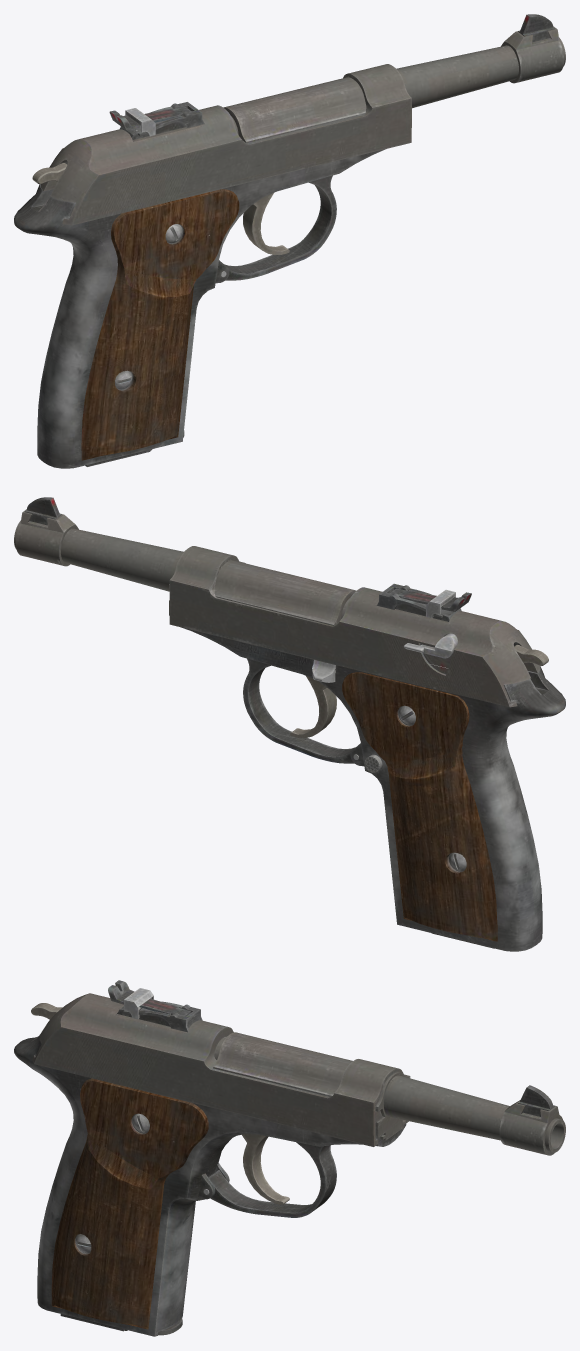
The model's file is pistol.glb.
3 renders of one model, top to bottom at view 1: azimuth 30°, elevation 25°; view 2: azimuth 150°, elevation 25°; view 3: azimuth 330°, elevation 25°, orthographic.
Parts seen in each view (by area): view 1: service_pistol_pistol_a, service_pistol_slide_a, service_pistol_trigger_a; view 2: service_pistol_pistol_a, service_pistol_slide_a, service_pistol_trigger_a; view 3: service_pistol_pistol_a, service_pistol_slide_a, service_pistol_trigger_a.
Part boxes in pixels (x1,y1,x2,y2): service_pistol_pistol_a: [14, 14, 565, 468]; service_pistol_slide_a: [41, 64, 411, 225]; service_pistol_trigger_a: [243, 193, 289, 254]; service_pistol_pistol_a: [14, 497, 565, 951]; service_pistol_slide_a: [169, 546, 544, 707]; service_pistol_trigger_a: [290, 676, 336, 737]; service_pistol_pistol_a: [14, 1032, 565, 1336]; service_pistol_slide_a: [32, 980, 410, 1146]; service_pistol_trigger_a: [242, 1134, 289, 1204].
Size of the model in its own units: 0.2219 by 0.1307 by 0.0318.
1 material, 1 textured.
